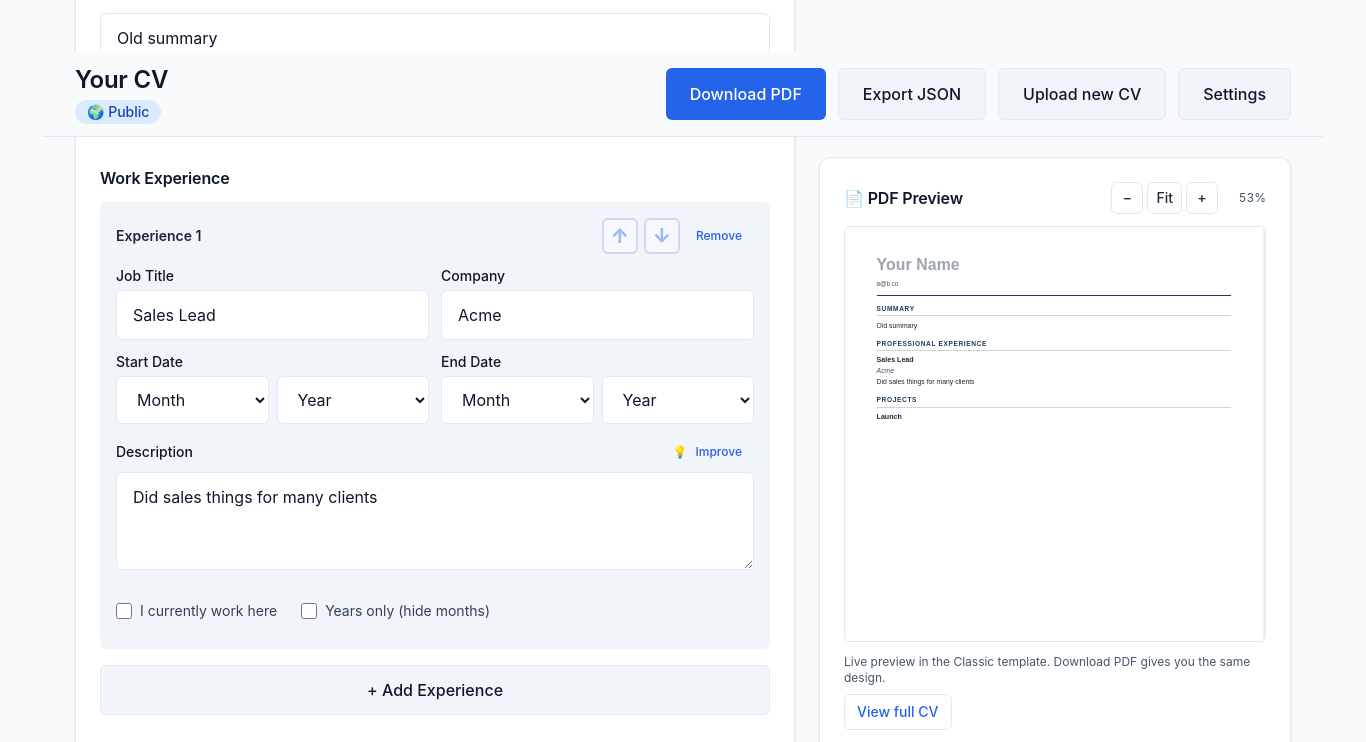
💡 field suggestions › shows the error and can try again
This screenshot has width=1366, height=742.
(page scrolled)
What coordinates should you click on to do the following:
click the button with aria-label "Improve Experience 1 Description"
I would click on:
 (707, 452)
Its box is [660, 436, 754, 468].
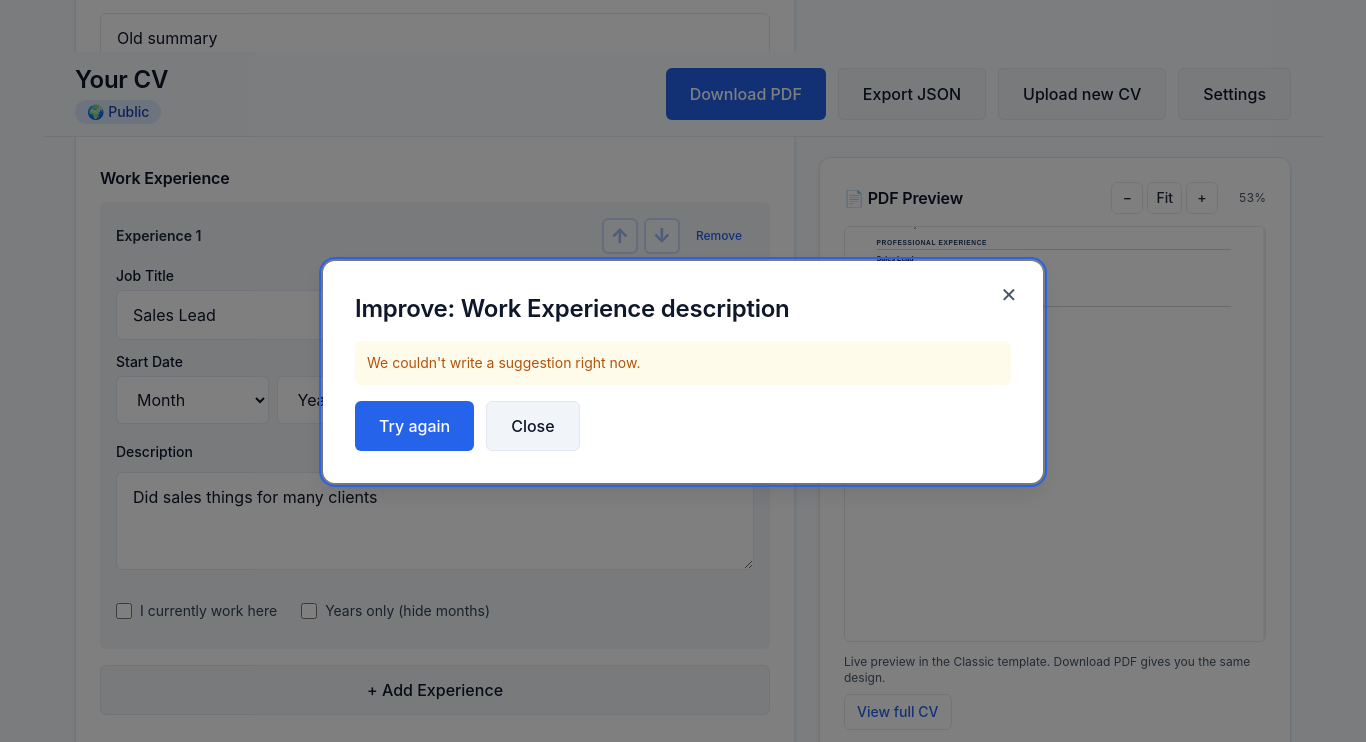
Check: the message shows "We couldn't write a suggestion right now.", box [367, 354, 640, 371]
What coordinates should you click on to do the following:
click the button "Try again"
I would click on:
 (415, 426)
Its box is [355, 401, 474, 451].
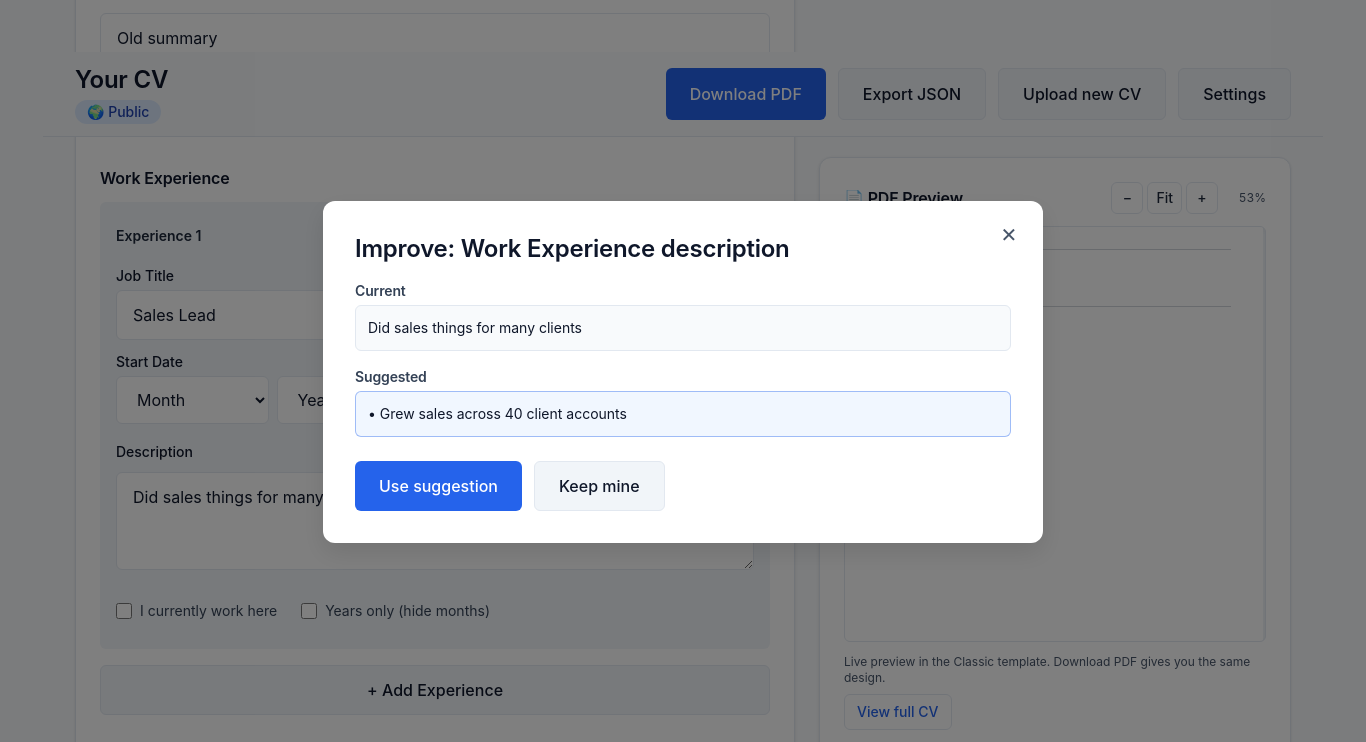
Check: the button "Use suggestion" is shown, box [355, 461, 522, 511]
